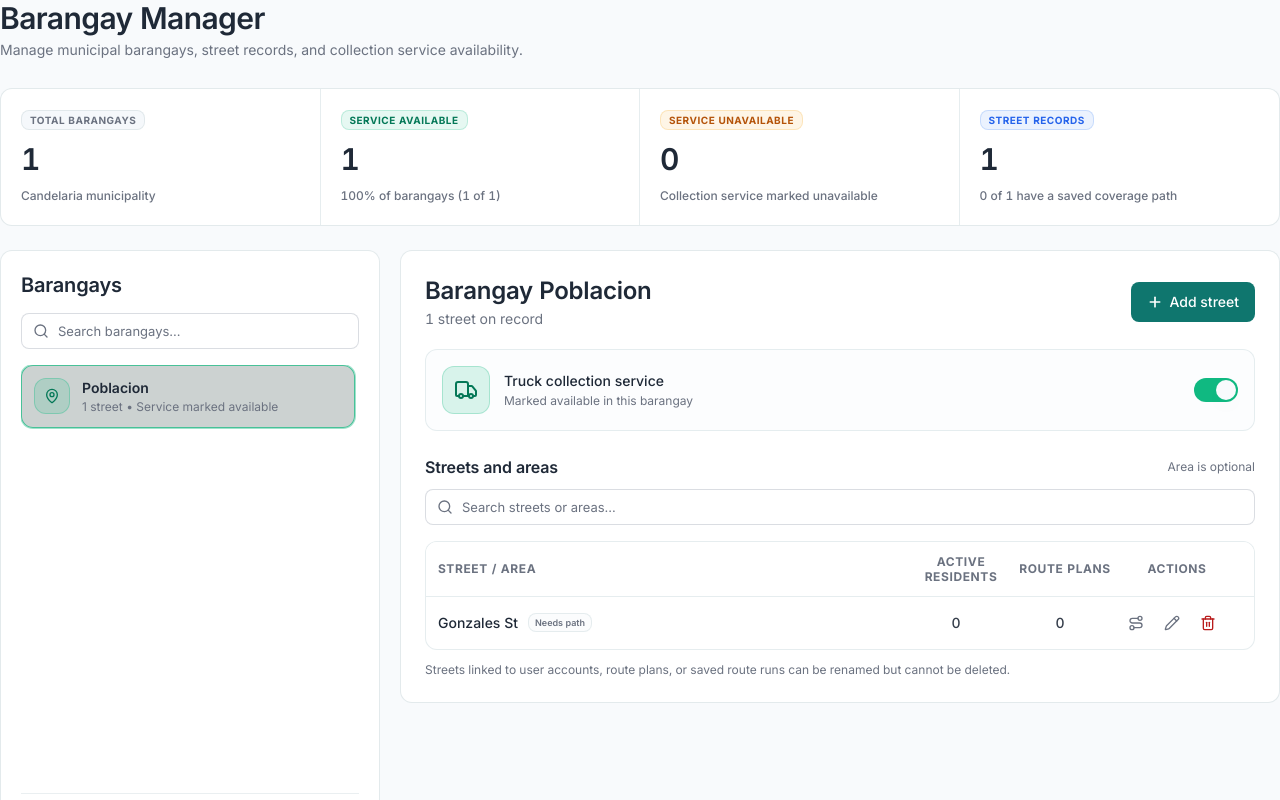
street editor unsaved changes › closes unchanged forms directly and guards edited streets on Escape
The width and height of the screenshot is (1280, 800).
Click the button "Add street" at x=1193, y=302, box [1132,282,1255,322]
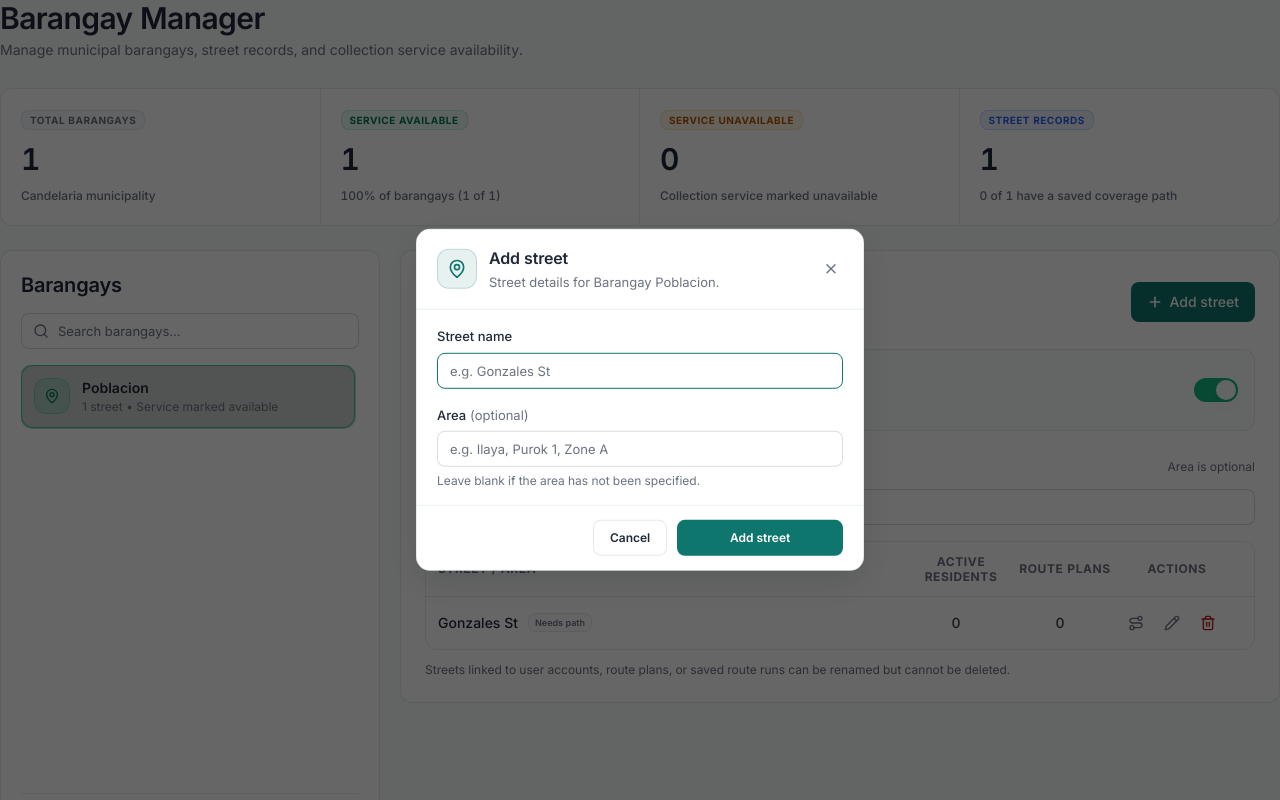
Click the button "Cancel" at x=630, y=538, box [593,520,667,556]
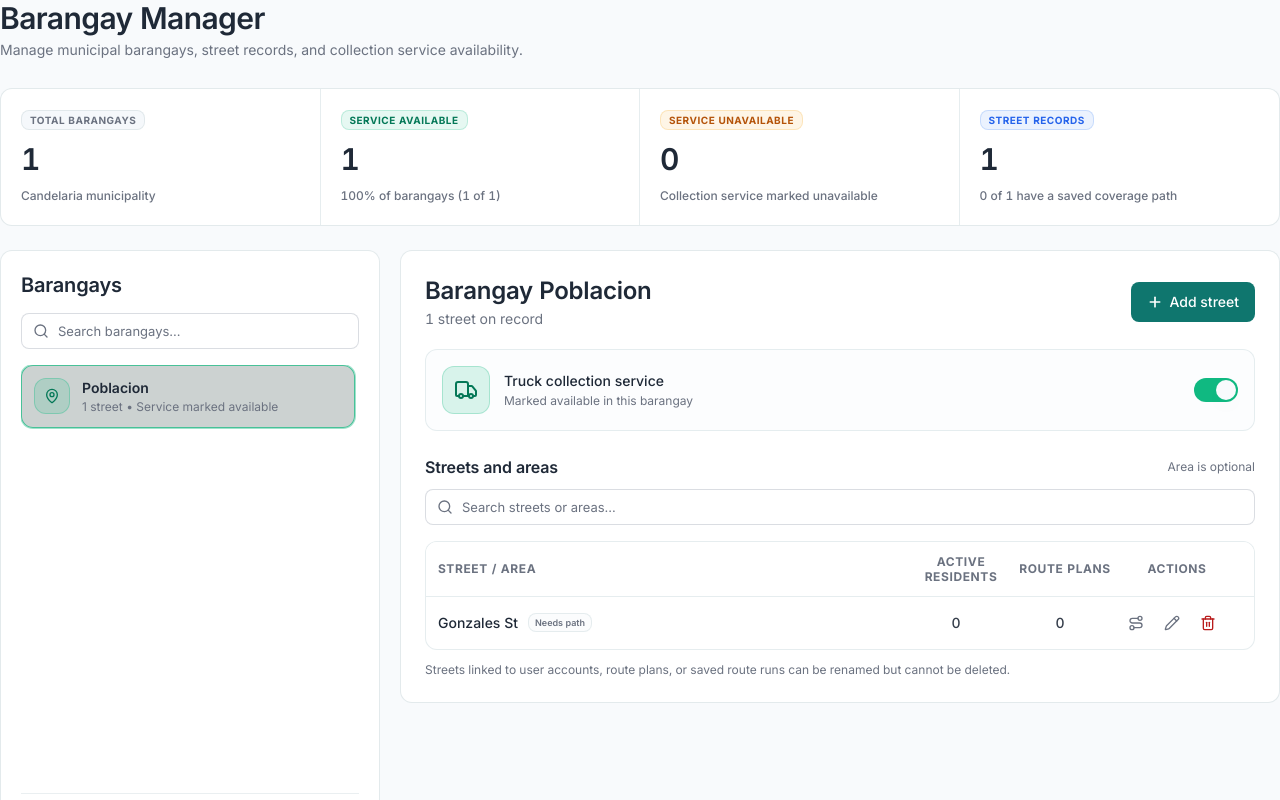
Expected: the button is gone
Click the button named "Edit Gonzales St" at x=1172, y=622, box [1156,606,1188,638]
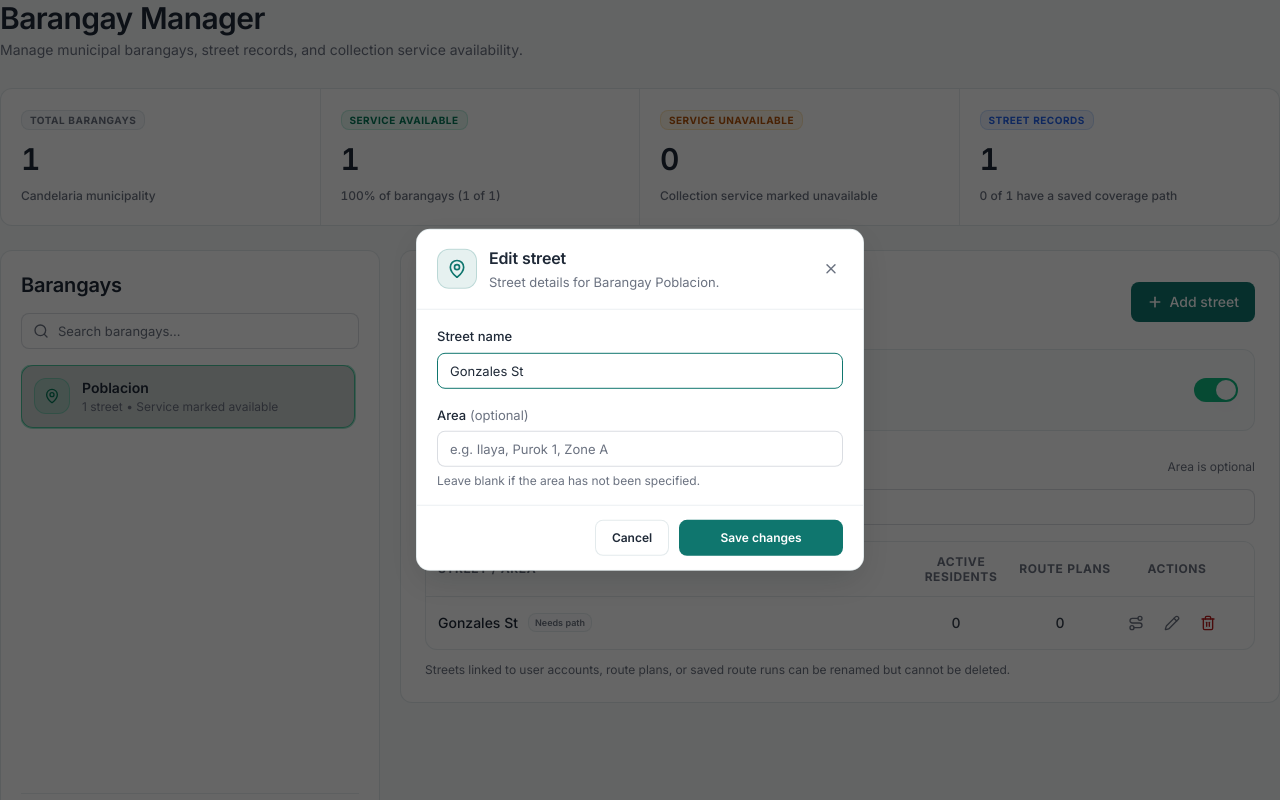
Type "Zone A" into the field with id "barangay-street-area" at x=640, y=449, box [437,431,843,467]
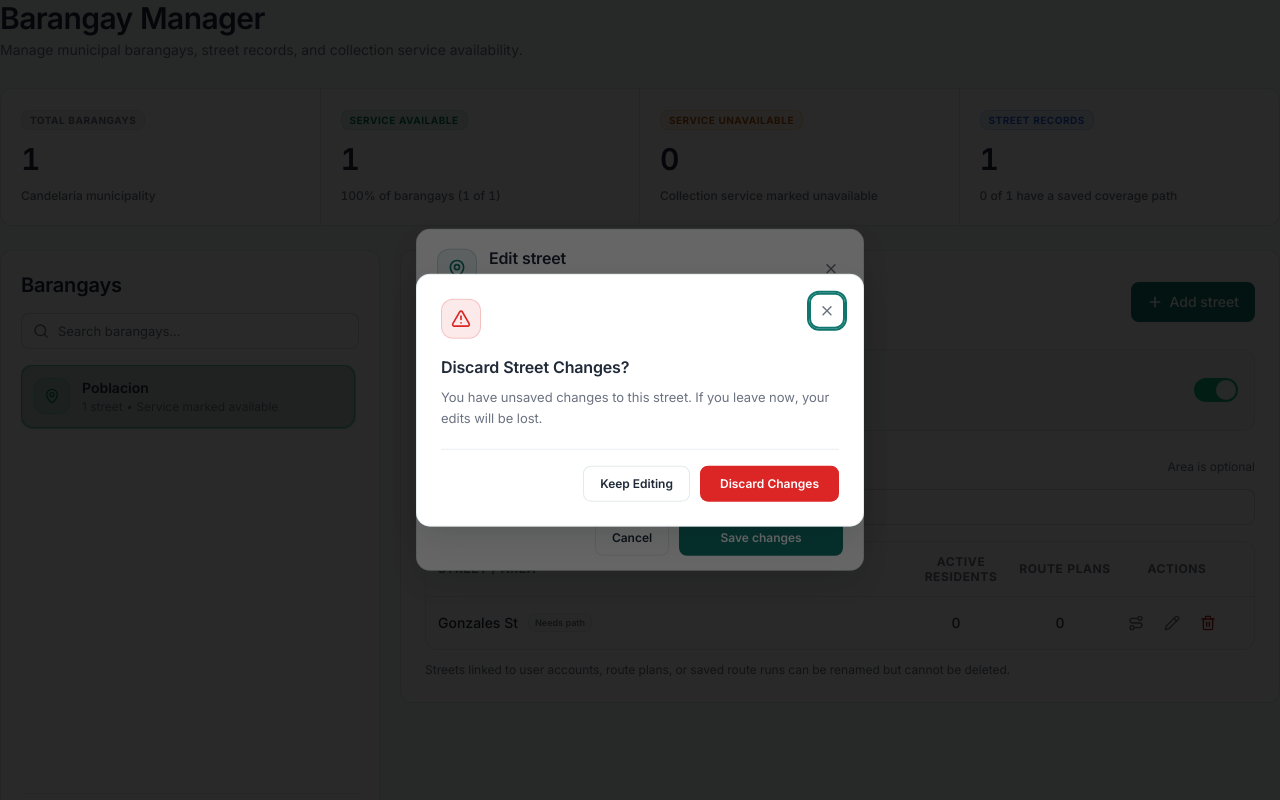
Expected: the text "Discard Street Changes?" is shown, [441,357,629,377]
